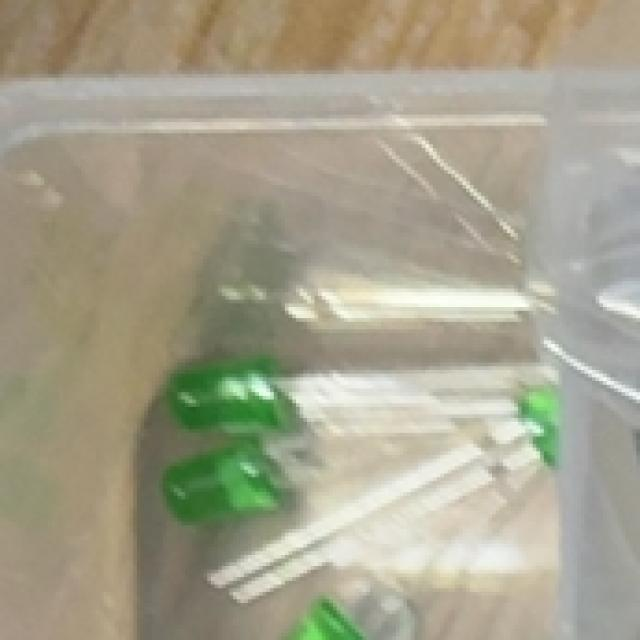GREEN_LED: (212, 387, 569, 600), (288, 439, 572, 640), (165, 383, 546, 508), (168, 353, 574, 434)
